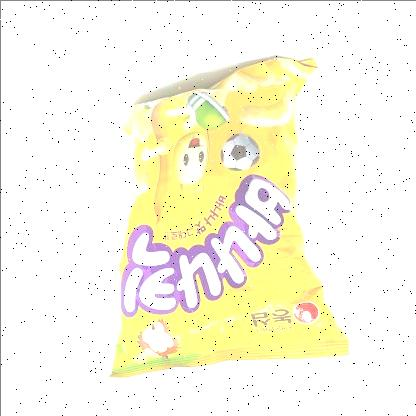Others: (97, 49, 355, 386)
